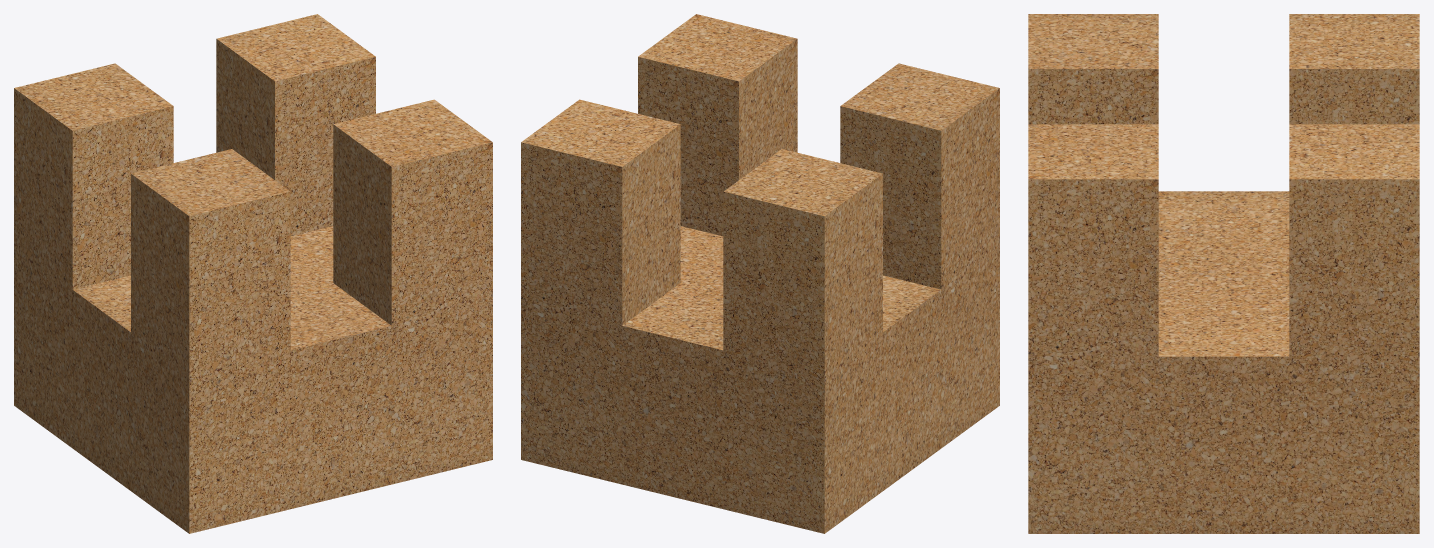
3 views of the same model, side by side, from view 1: azimuth 30°, elevation 25°; view 2: azimuth 150°, elevation 25°; view 3: azimuth 270°, elevation 25° (orthographic). The views are drawn at different scales.
Parts seen in each view (by area): view 1: Base1; view 2: Base1; view 3: Base1.
Boxes of the visible parts, x1,y1,x2,y2 form: Base1: (14, 14, 492, 533); Base1: (521, 14, 999, 533); Base1: (1028, 14, 1419, 533).
Bounding box in the file's own units: 20.03 × 20.03 × 20.03.
